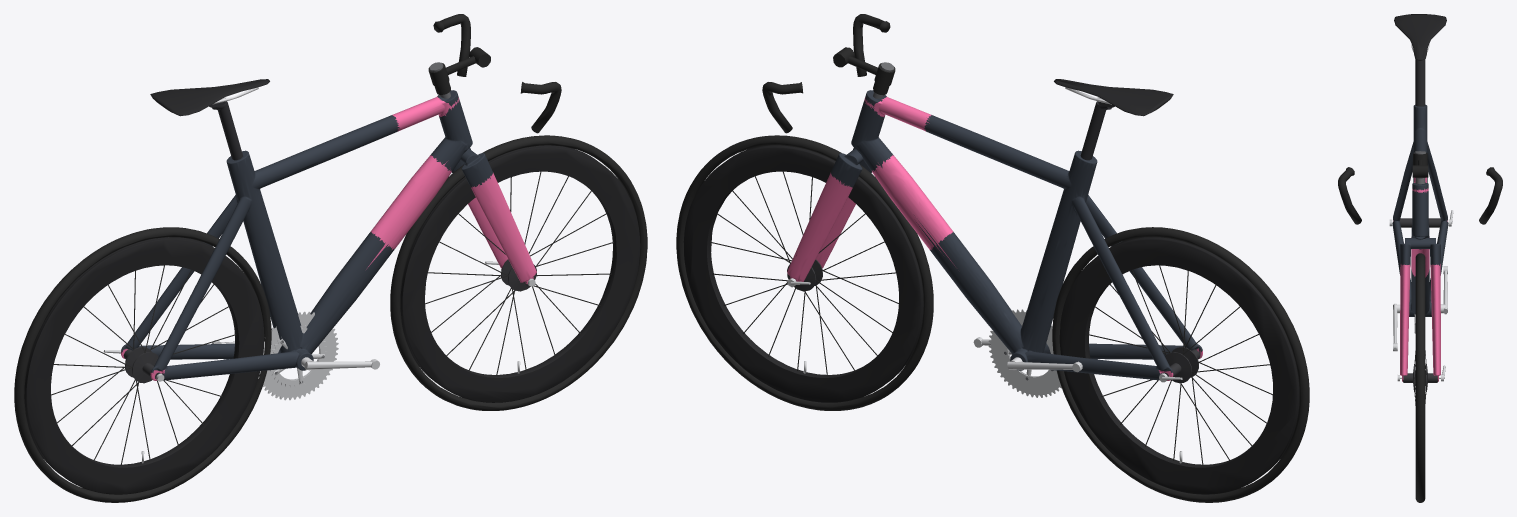
Rendered from bike_lite.glb.
3 views of the same model, side by side, from view 1: azimuth 30°, elevation 25°; view 2: azimuth 150°, elevation 25°; view 3: azimuth 270°, elevation 25° (orthographic). The views are drawn at different scales.
Visible parts, largest first — view 1: saddle, fork, tyre_front, dropbar; view 2: saddle, fork, tyre_front, dropbar; view 3: fork, dropbar, tyre_front, saddle.
Boxes of the visible parts, box(x1,y1,x2,y2) form: saddle: box(24, 79, 640, 494); fork: box(121, 90, 536, 380); tyre_front: box(14, 135, 647, 502); dropbar: box(51, 14, 613, 465); saddle: box(683, 79, 1299, 494); fork: box(787, 90, 1202, 380); tyre_front: box(676, 135, 1309, 502); dropbar: box(710, 14, 1272, 465); fork: box(1392, 104, 1448, 381); dropbar: box(1338, 44, 1502, 405); tyre_front: box(1415, 253, 1425, 502); saddle: box(1394, 14, 1446, 60).
Size of the model in its own units: 1.66 by 0.9824 by 0.445.
Materials: 5 (5 with a texture image).
